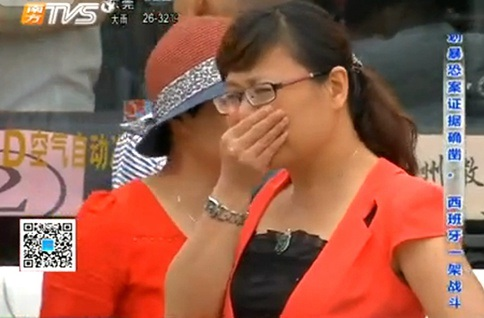face: (226, 54, 306, 173)
